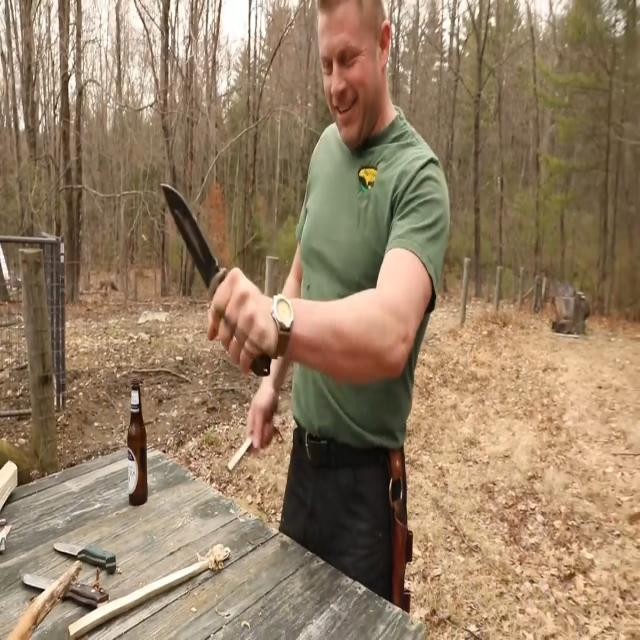knife: (159, 171, 273, 379)
